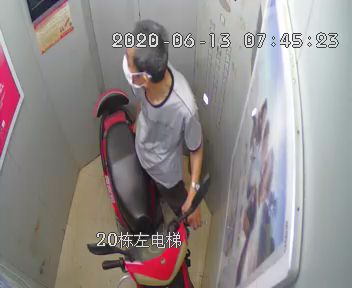Electric-bicycle: (86, 88, 211, 288)
